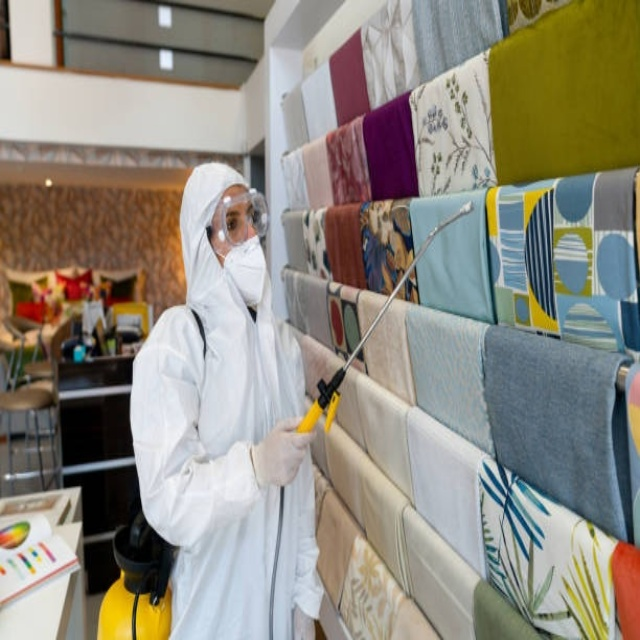Gafas: (207, 190, 269, 251)
Guantes: (253, 417, 316, 491)
Mascara: (220, 234, 267, 307)
